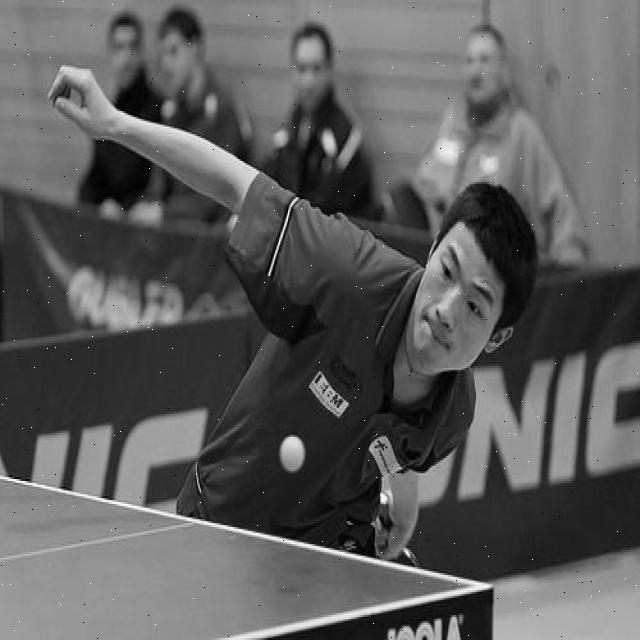ping-pong-ball: (280, 432, 306, 473)
